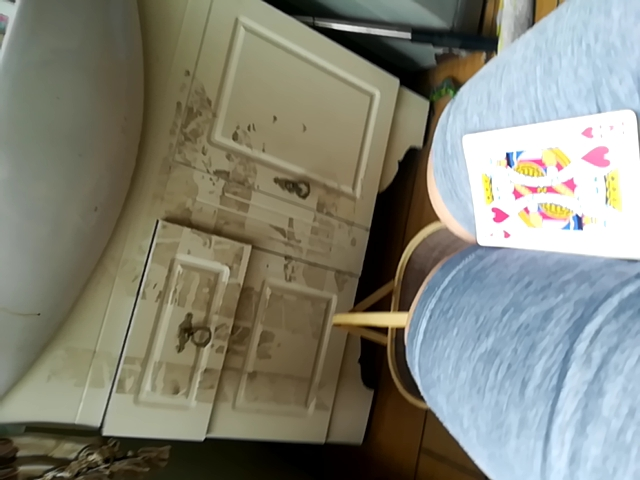hx k: (457, 110, 638, 266)
